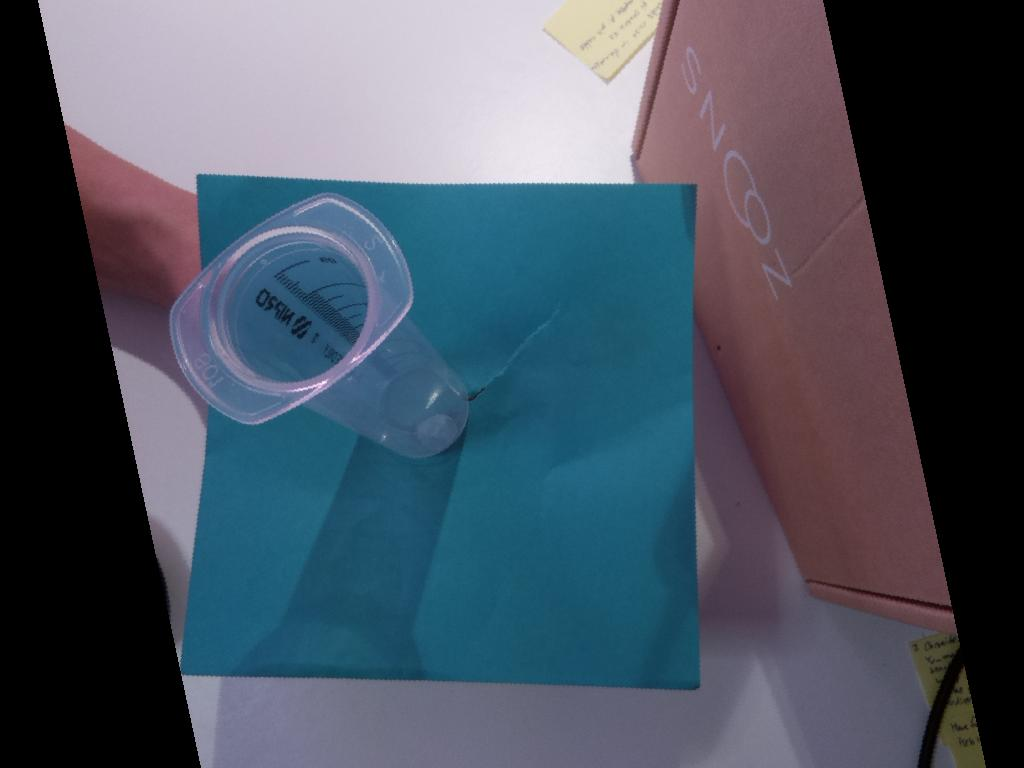clean: (168, 190, 418, 426)
